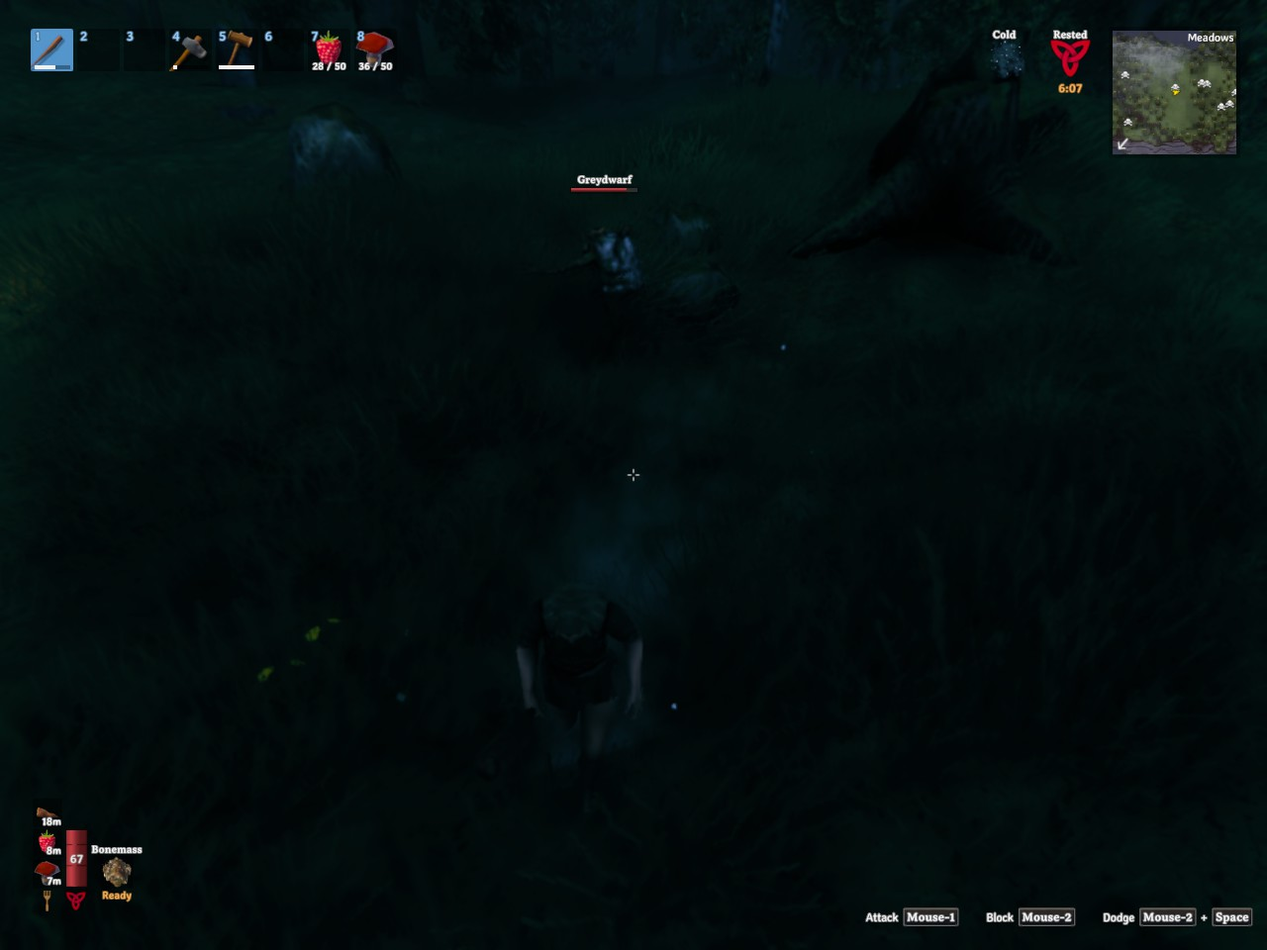Greydwarf: (573, 229, 641, 294)
